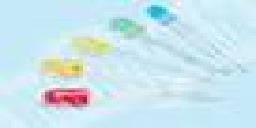LED: (38, 85, 97, 108), (72, 31, 115, 57), (144, 1, 183, 29)
